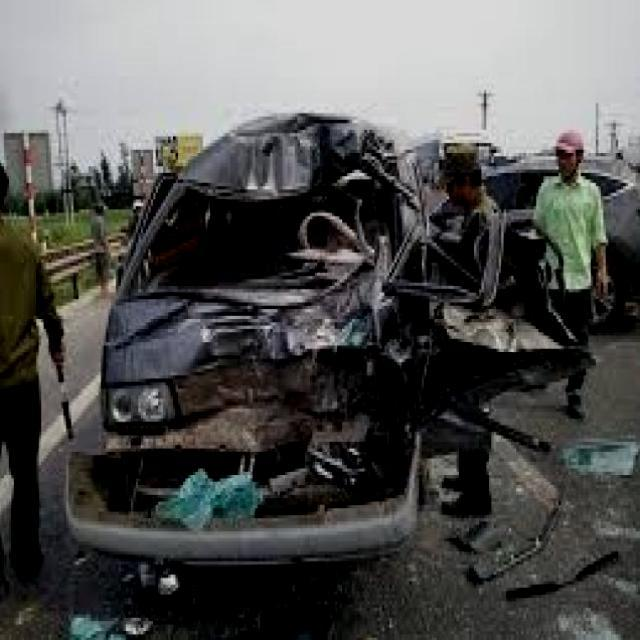accident: (77, 86, 488, 563)
